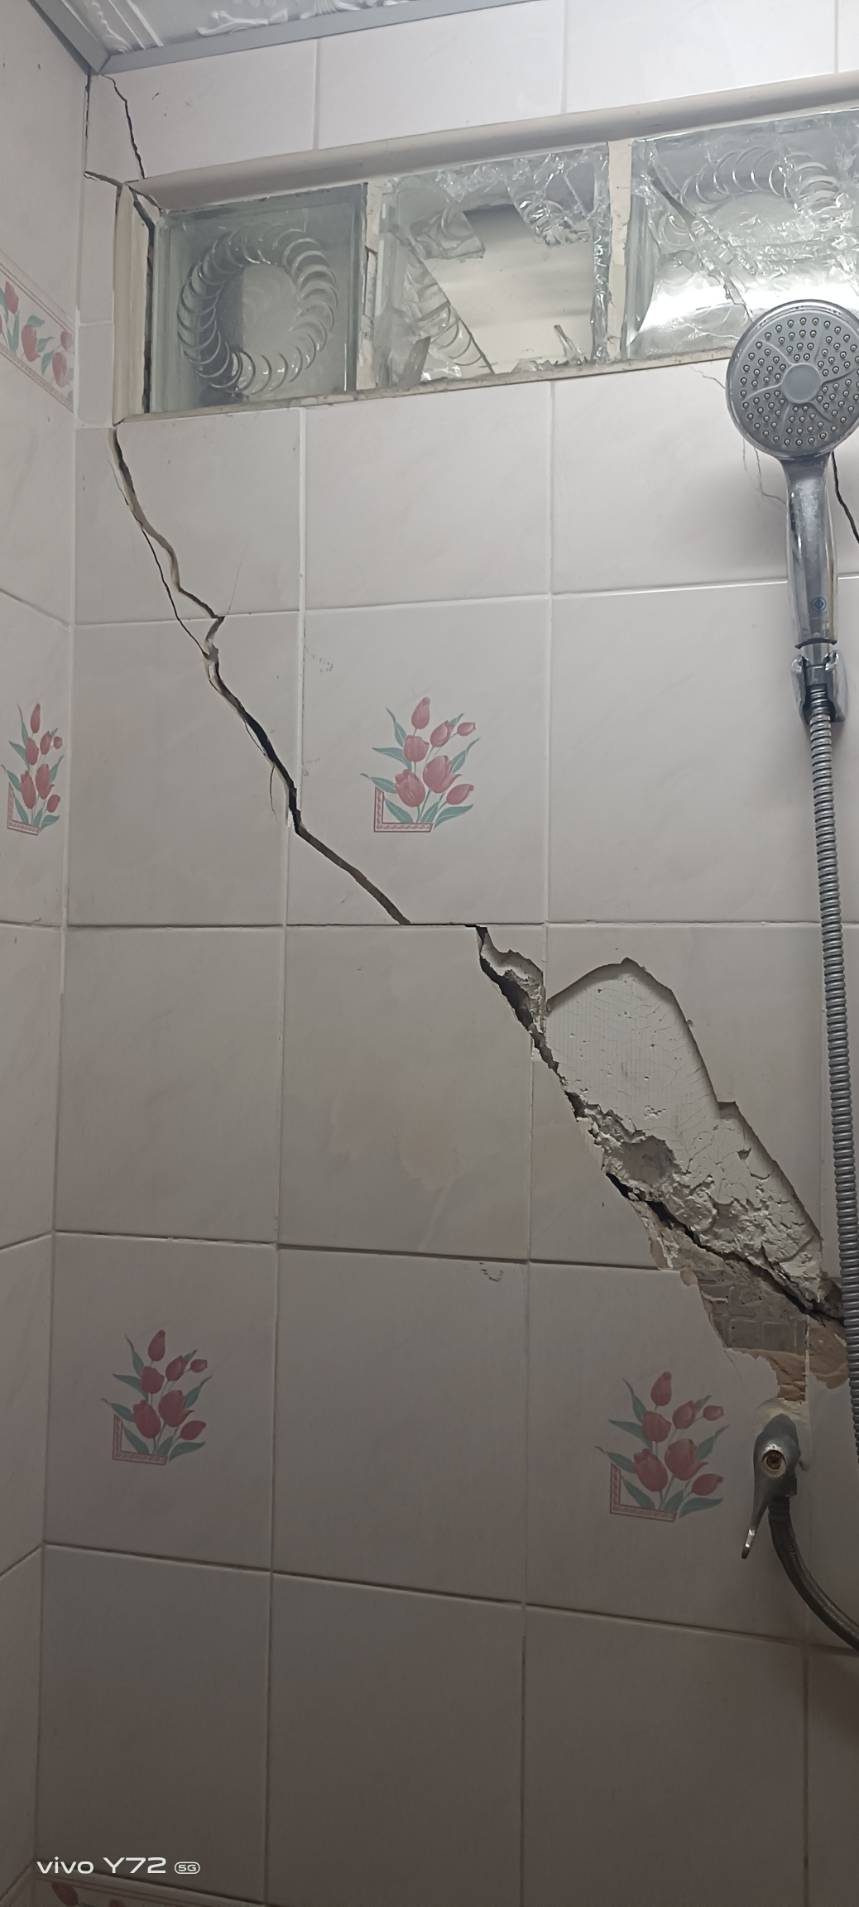High: (68, 64, 850, 1448)
